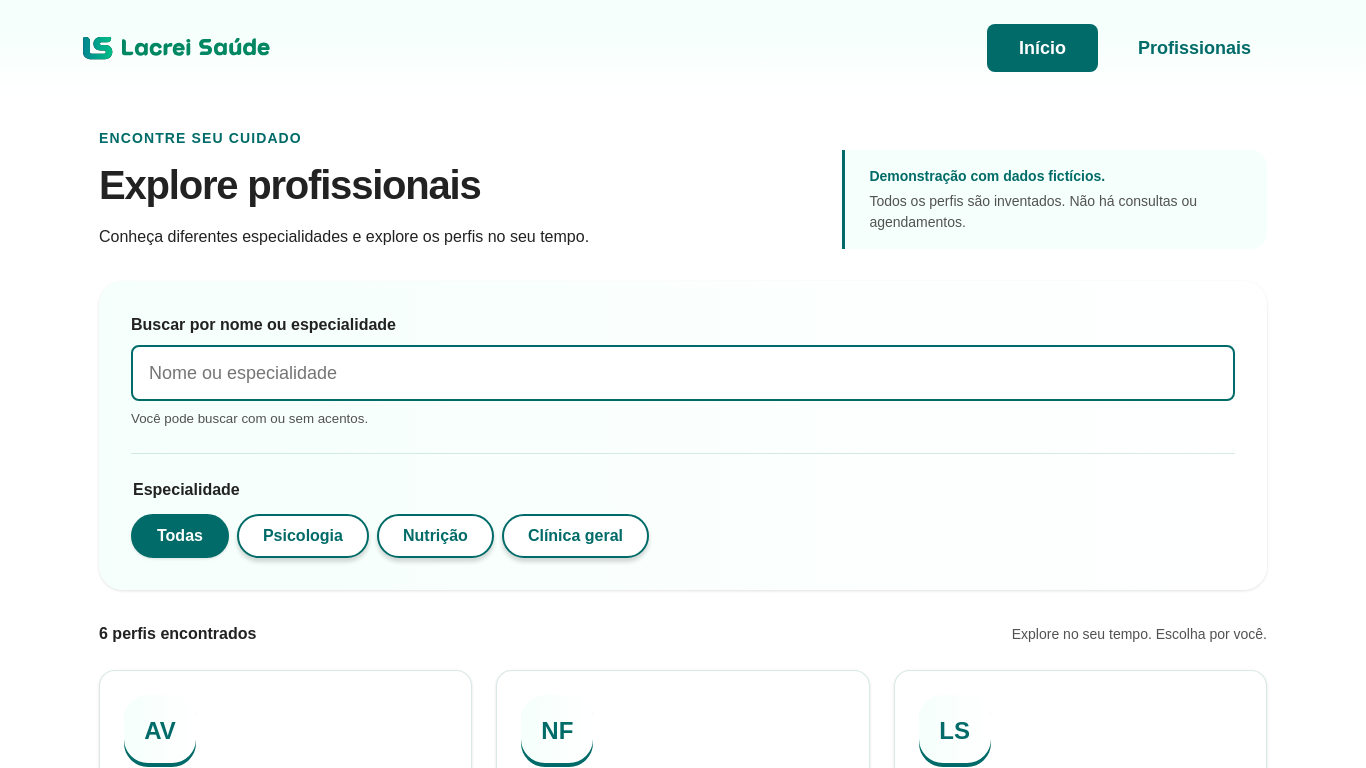
Test: Páginas e exploração › filtra por especialidade e anuncia o total
The image size is (1366, 768).
Click the button "Nutrição" at (435, 536), box left=377, top=514, right=494, bottom=558
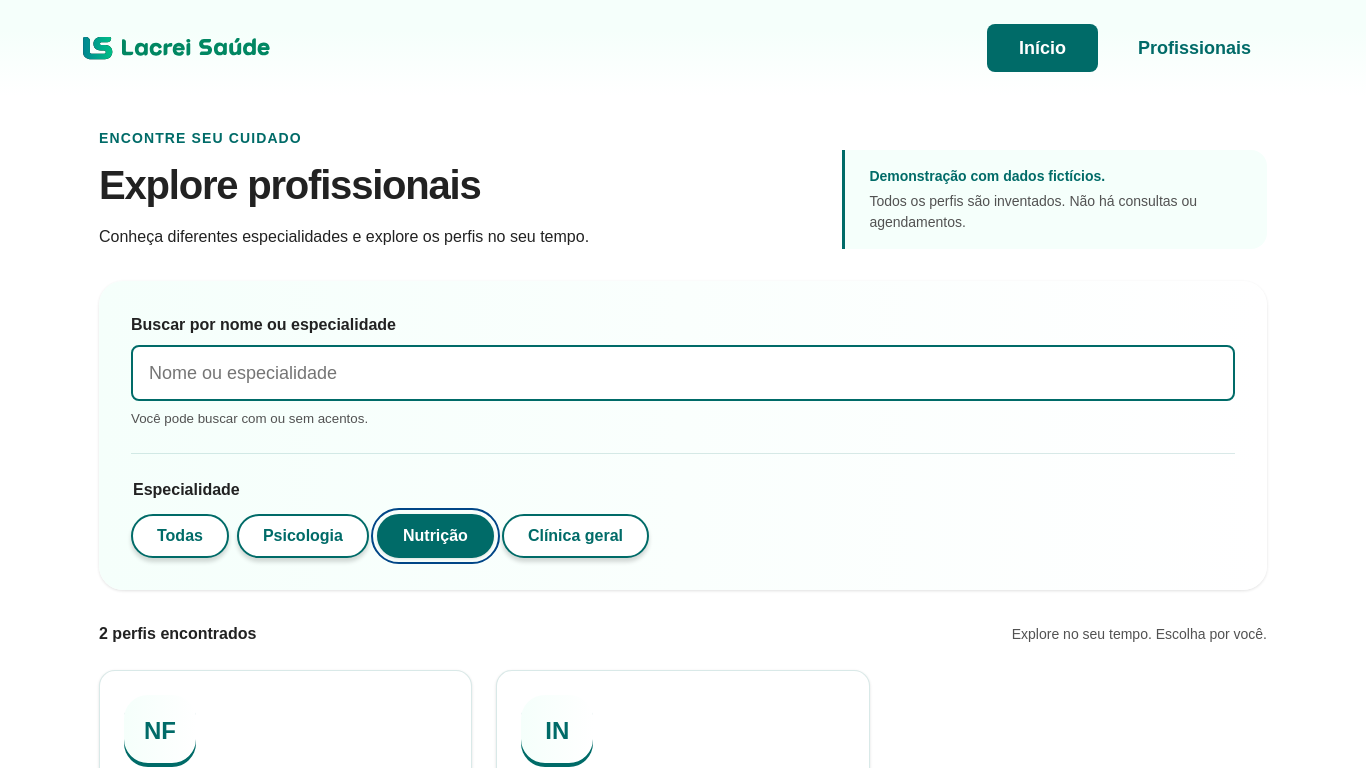
expect the message reads "2 perfis encontrados": met, box left=99, top=622, right=256, bottom=646
